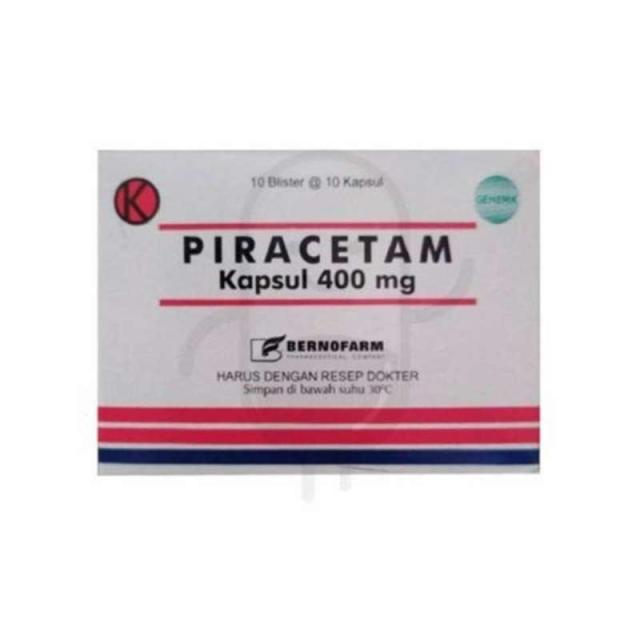drug-name: (174, 228, 461, 270)
